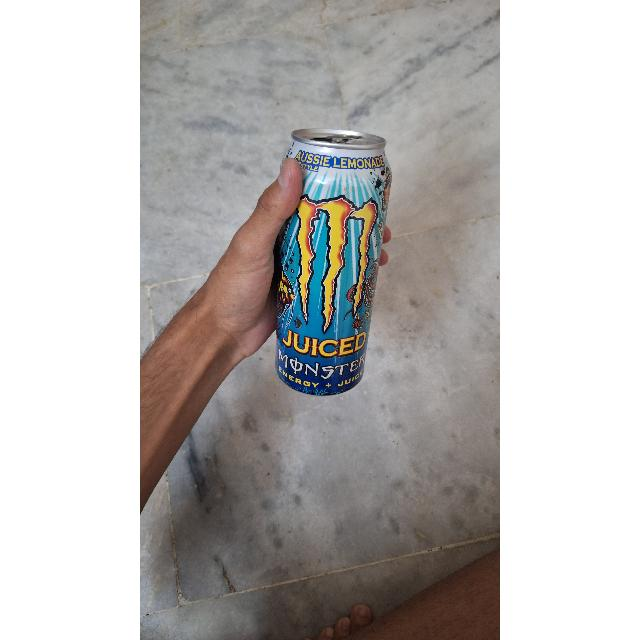Monster Aussie Lemonade: (284, 142, 384, 396)
